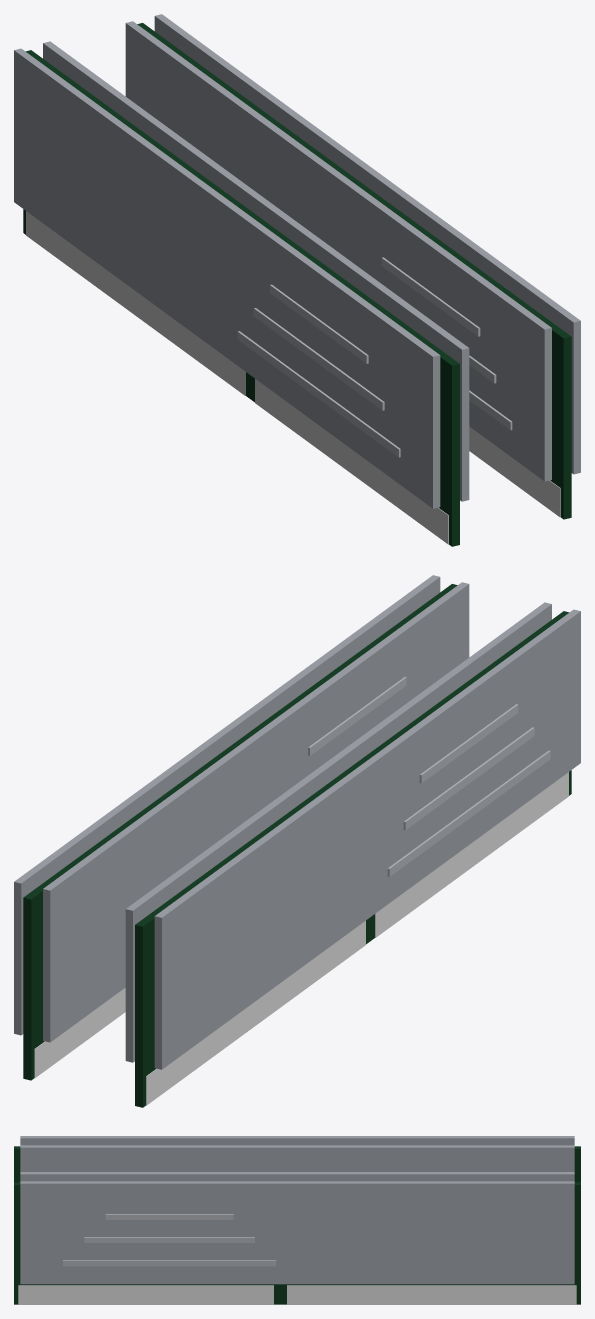
File: hw_ram_ddr3_32gb.glb
The picture shows the model from 3 angles, top to bottom: view 1: azimuth 30°, elevation 25°; view 2: azimuth 150°, elevation 25°; view 3: azimuth 270°, elevation 25°; orthographic projection. The views are drawn at different scales.
Parts seen in each view (by area): view 1: Stick_1, Body; view 2: Stick_1, Body; view 3: Body, Stick_1.
Part boxes in pixels (box(x1,y1,x2,y2)): Stick_1: box(14, 41, 469, 546); Body: box(125, 14, 580, 519); Stick_1: box(125, 602, 580, 1107); Body: box(14, 575, 469, 1080); Body: box(14, 1172, 580, 1304); Stick_1: box(14, 1136, 580, 1182).
Bounding box in the file's own units: 0.0272 × 0.0325 × 0.133.
